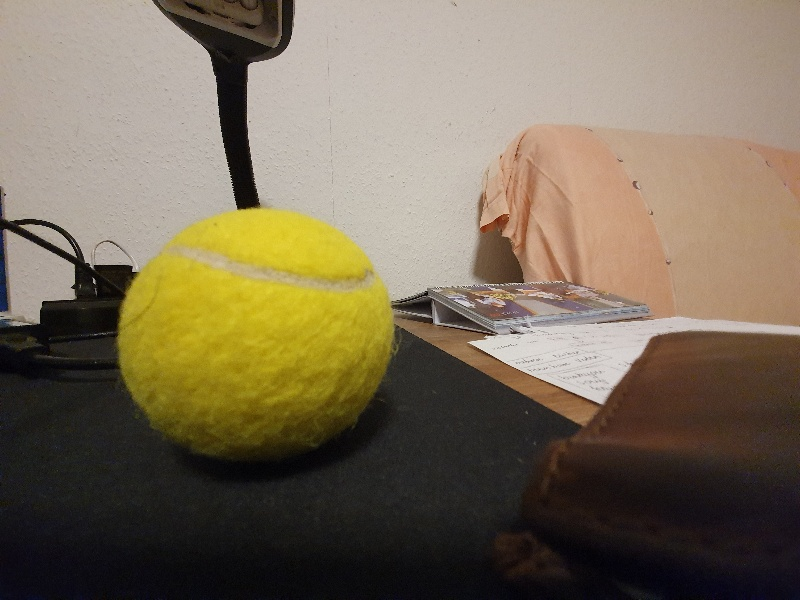Tennisball: (106, 197, 431, 481)
